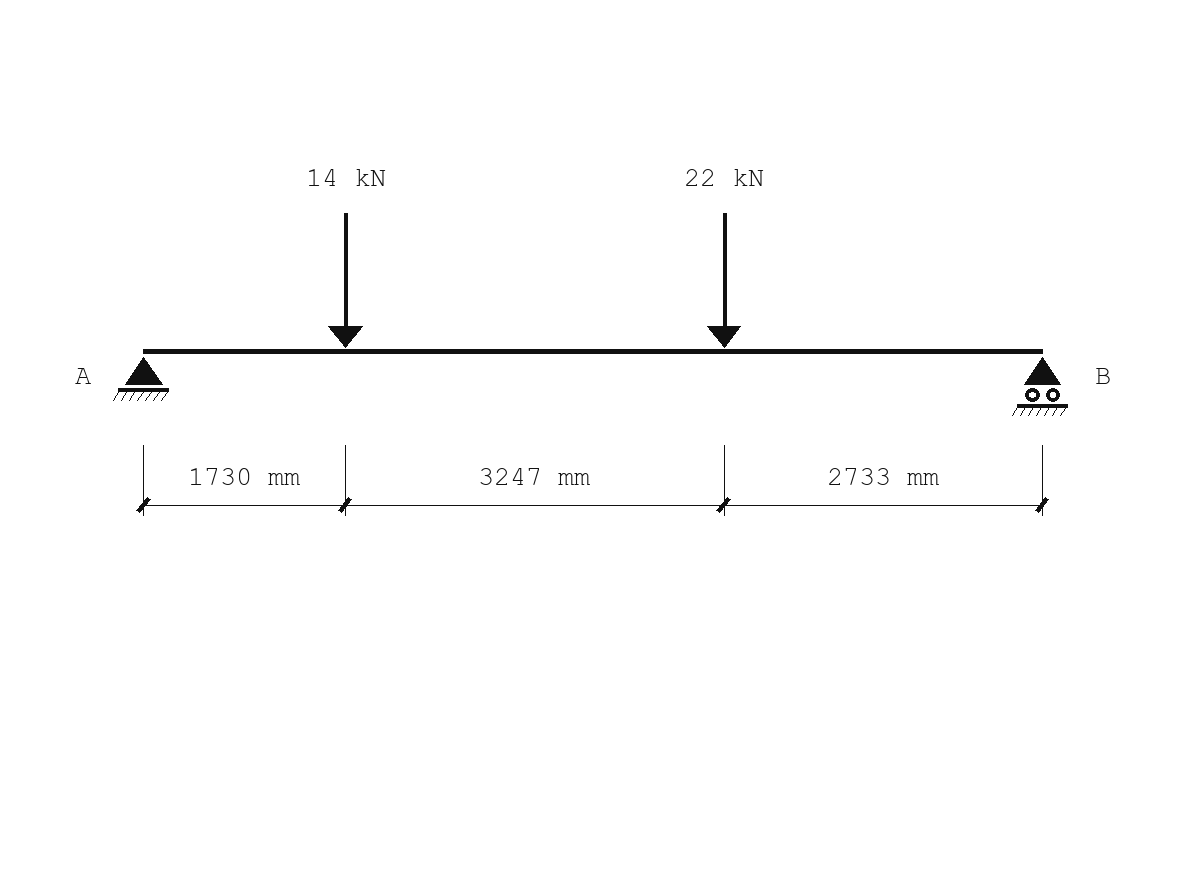pin_support: (113, 357, 169, 401)
point_load: (328, 213, 363, 348), (707, 213, 741, 348)
roller_support: (1012, 357, 1068, 416)
